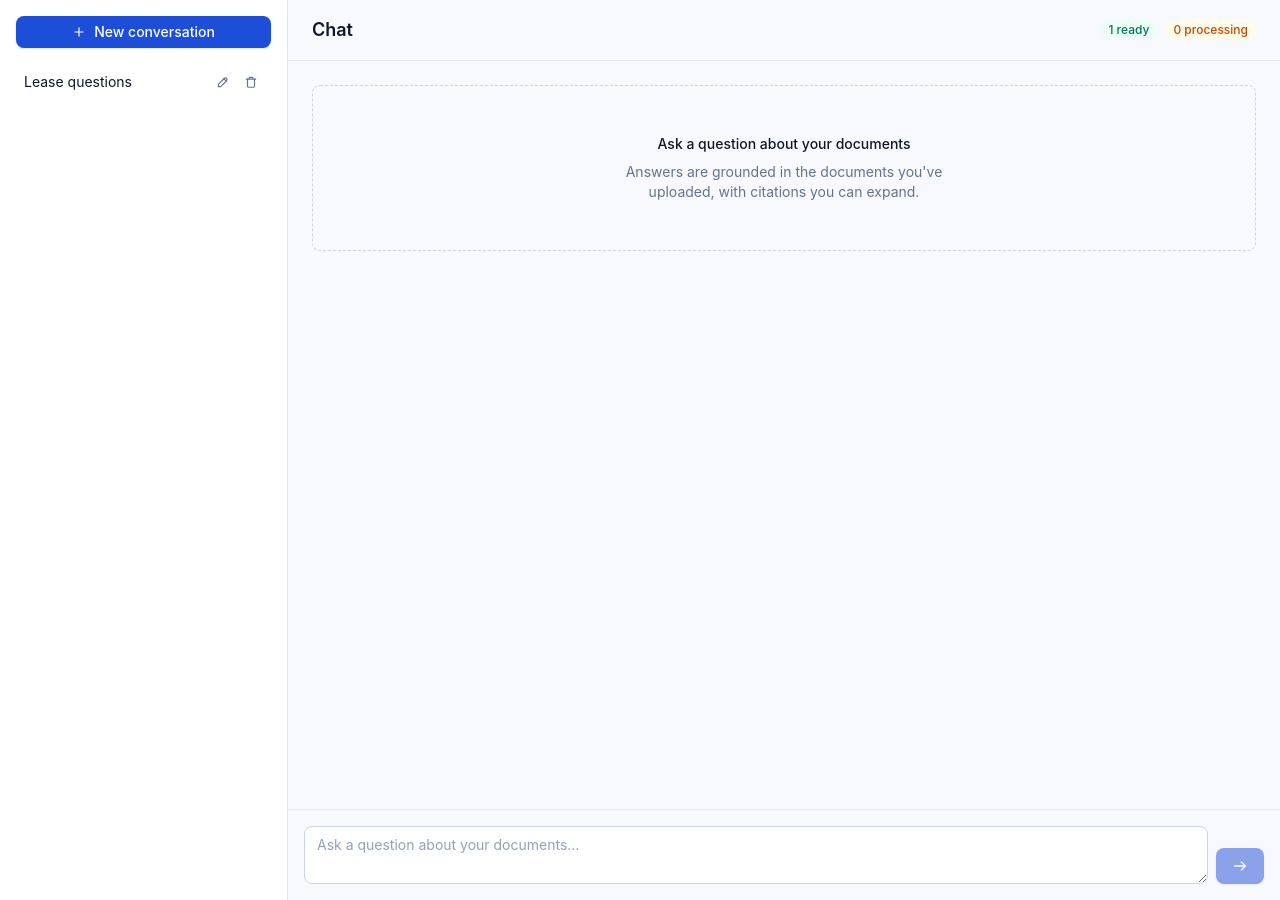
Scenario: Chat screen › AC-034/038: a marker resolves by its citation's n, not by array position, even when a marker is skipped
Click the button "Lease questions". click: (116, 82)
box: x1=24 y1=72 x2=207 y2=92
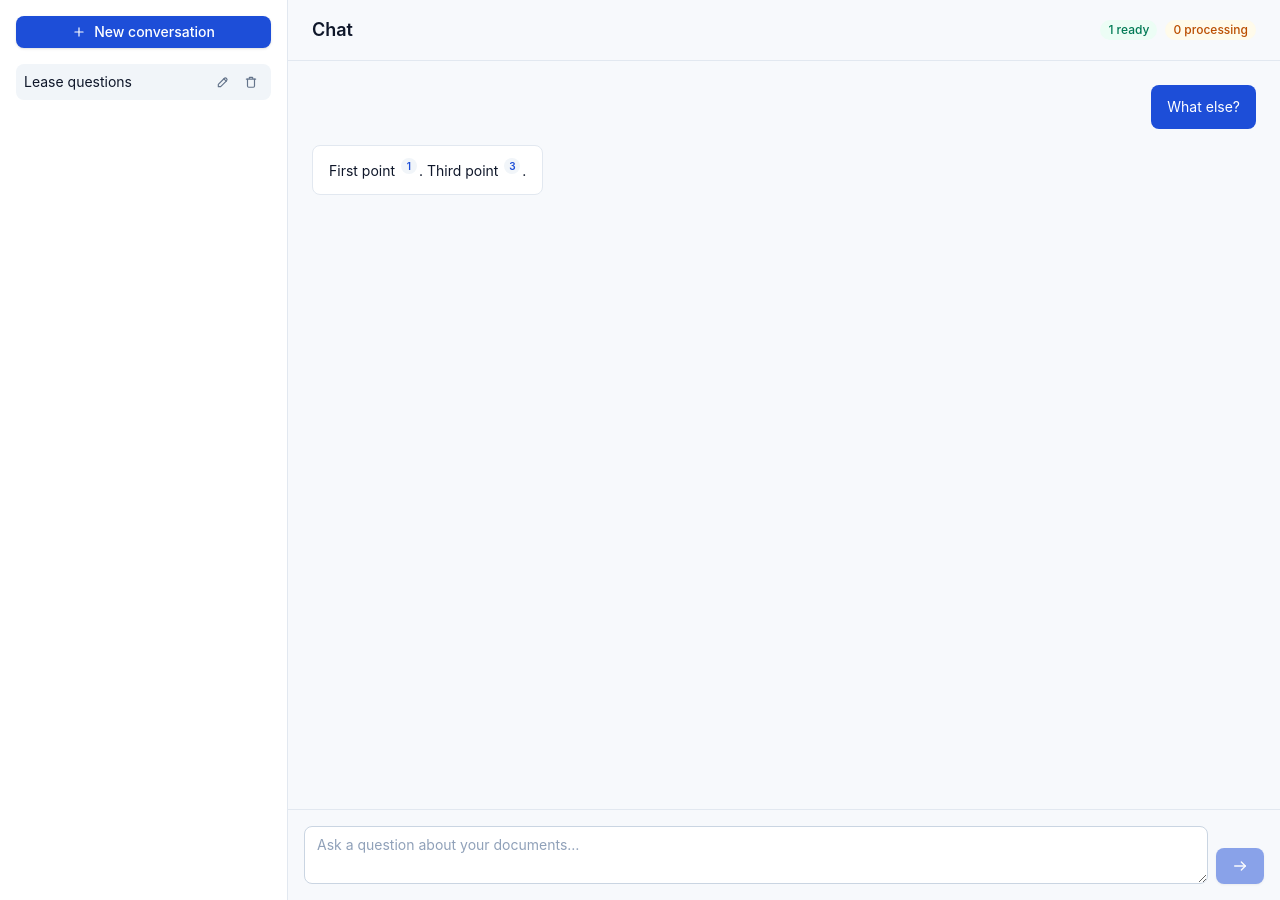
Now the text "First point 1 . Third point 3 ." is shown, box x1=329 y1=158 x2=526 y2=182
Click the button named "citation 3". click: (512, 166)
box: x1=504 y1=158 x2=520 y2=174
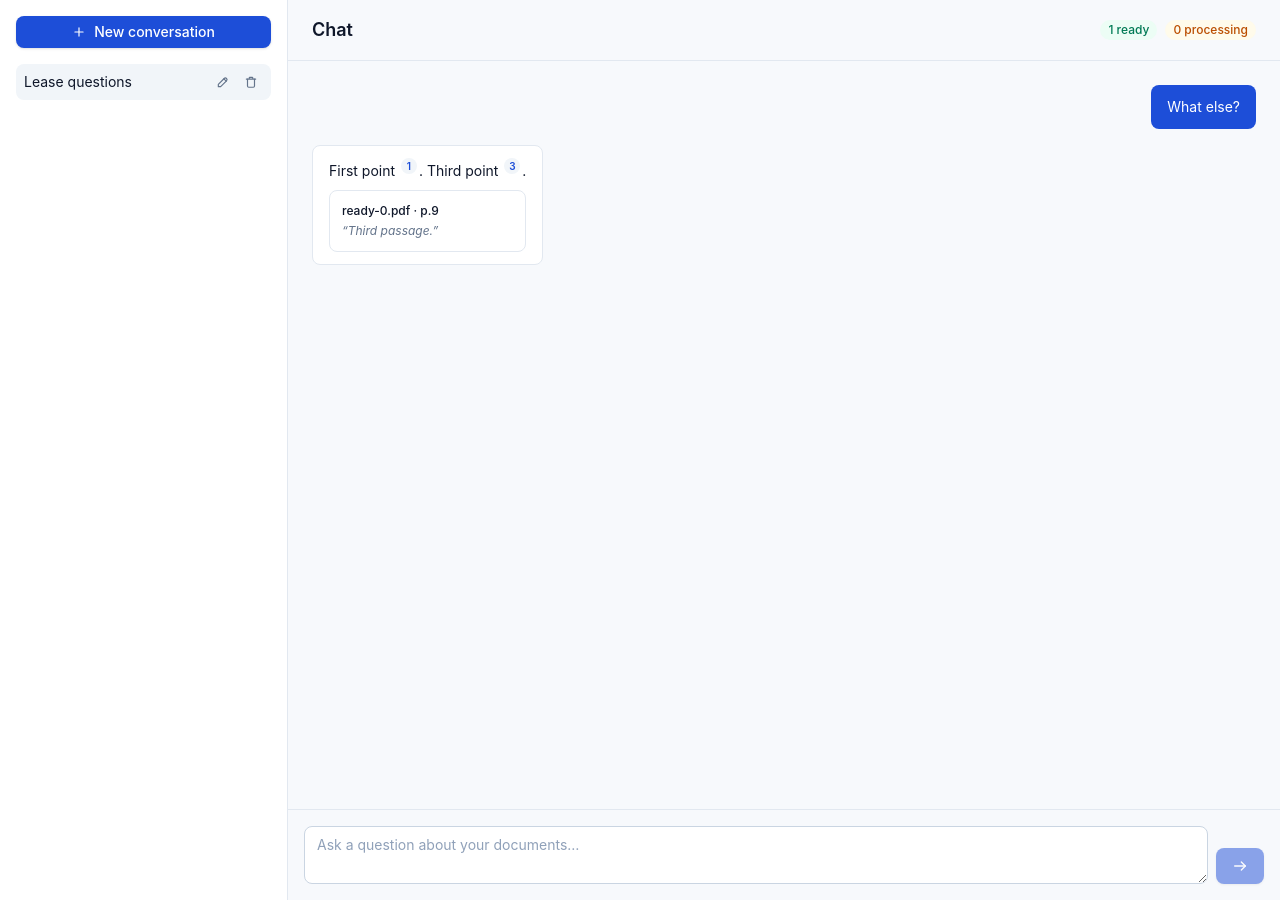
Now the text "“Third passage.”" is shown, box x1=342 y1=223 x2=438 y2=238
Click the button named "citation 3". click: (512, 166)
box: x1=504 y1=158 x2=520 y2=174
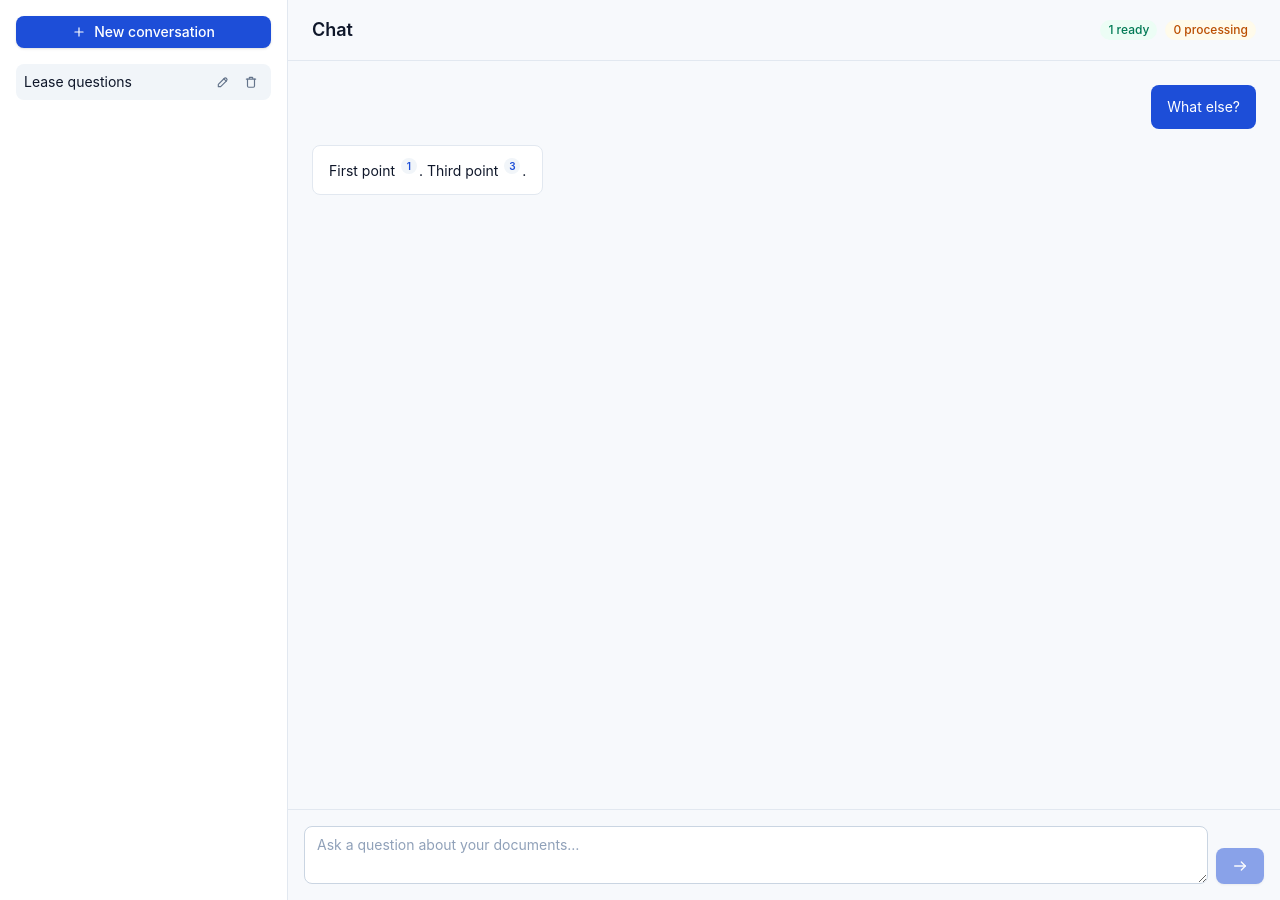
Click the button named "citation 1". click: (409, 166)
box: x1=401 y1=158 x2=417 y2=174
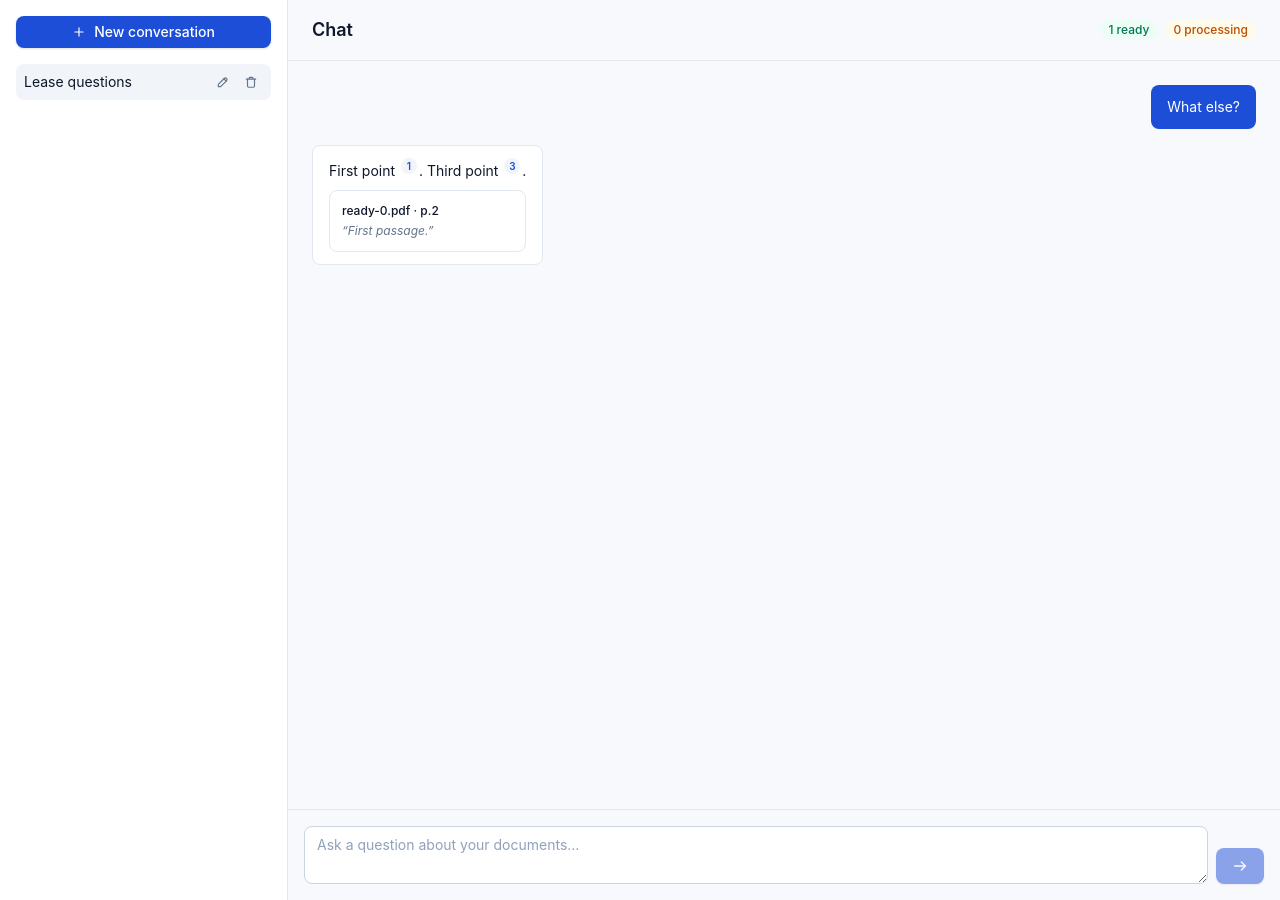
Now the text "“First passage.”" is shown, box x1=342 y1=223 x2=434 y2=238
